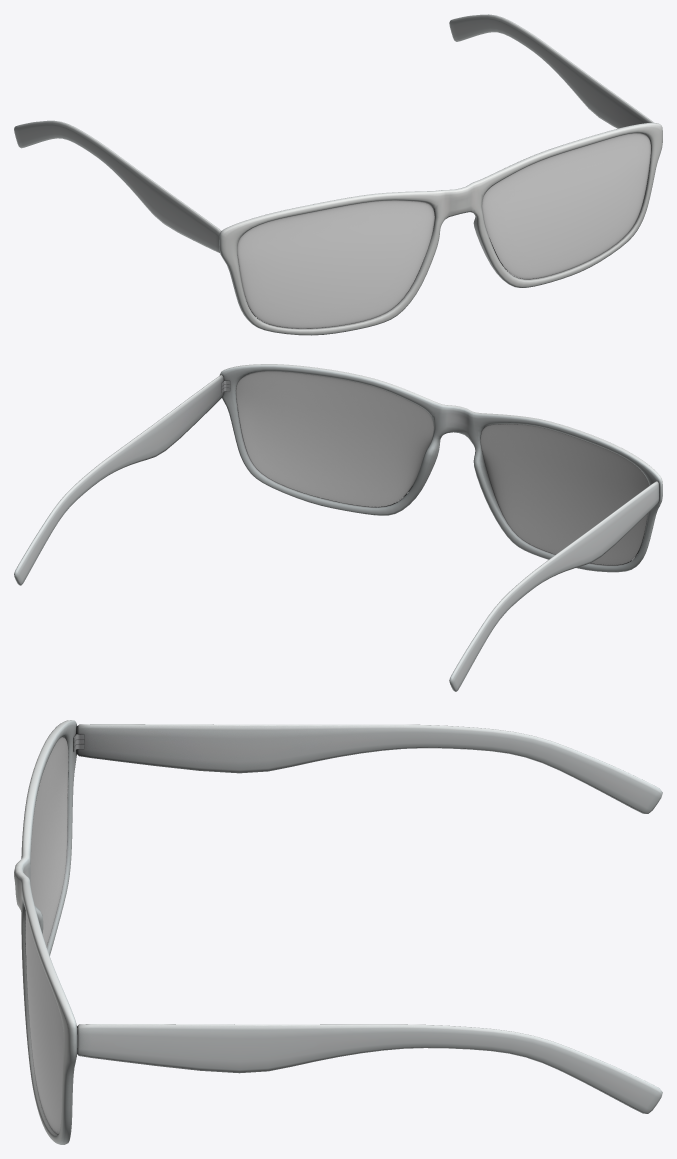
File: eyeglasses_a01.glb
3 views of the same model, one above another, from view 1: azimuth 30°, elevation 25°; view 2: azimuth 150°, elevation 25°; view 3: azimuth 270°, elevation 25° (orthographic). The views are drawn at different scales.
Parts seen in each view (by area): view 1: glass, sunglasses, rod; view 2: glass, rod, sunglasses; view 3: rod, glass, sunglasses.
Boxes of the visible parts, left/top/right/bottom form: glass: left=237, top=133, right=650, bottom=328; sunglasses: left=219, top=123, right=662, bottom=335; rod: left=14, top=14, right=654, bottom=252; glass: left=236, top=371, right=649, bottom=565; rod: left=14, top=375, right=659, bottom=691; sunglasses: left=219, top=364, right=662, bottom=572; rod: left=73, top=724, right=662, bottom=1113; glass: left=25, top=737, right=68, bottom=1133; sunglasses: left=14, top=720, right=77, bottom=1144.
Bounding box in the file's own units: 0.1635 × 0.0476 × 0.1471.
Materials: 3 (3 with a texture image).
